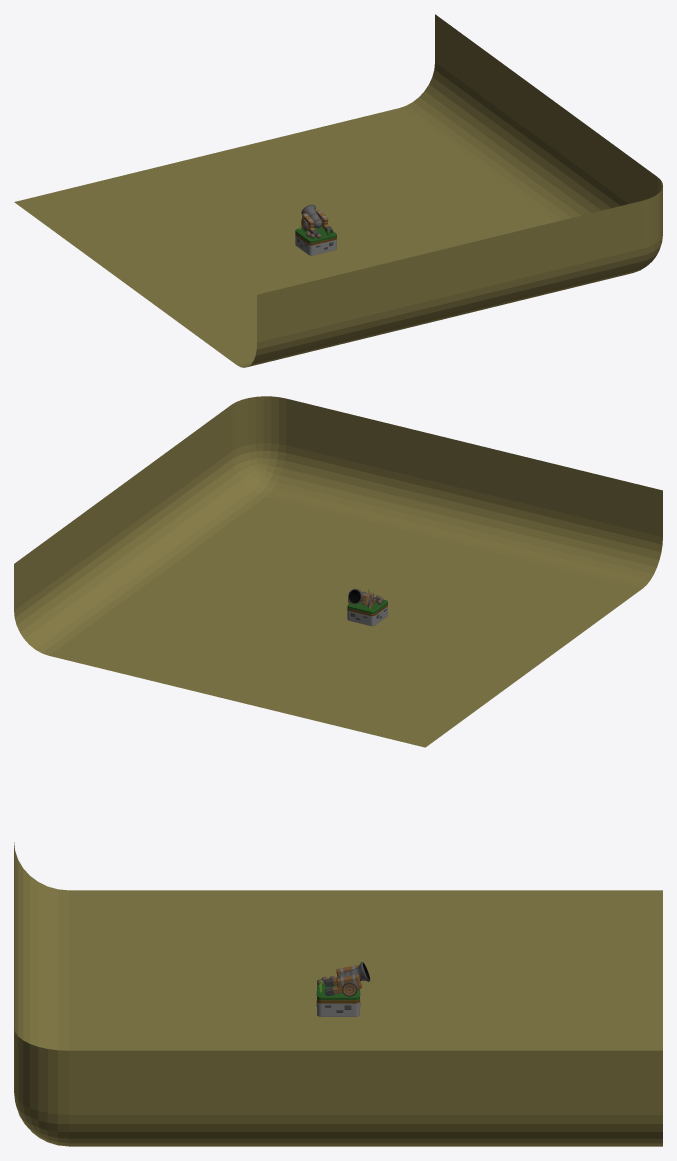
Rendered from cannon.fbx.
3 renders of one model, top to bottom at view 1: azimuth 30°, elevation 25°; view 2: azimuth 150°, elevation 25°; view 3: azimuth 270°, elevation 25°, orthographic. The views are drawn at different scales.
Parts seen in each view (by area): view 1: Plane; view 2: Plane; view 3: Plane, Cube.010.
Boxes of the visible parts, x1,y1,x2,y2 form: Plane: [14, 14, 662, 367]; Plane: [14, 396, 662, 747]; Plane: [14, 842, 662, 1146]; Cube.010: [317, 1002, 359, 1016].
Bounding box in the file's own units: 4493 × 880 × 4493.
